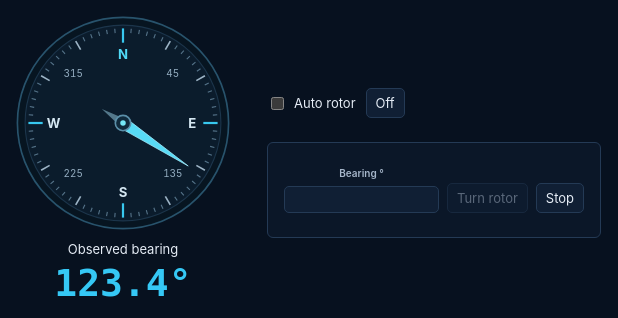
reports an automatic-controller failure without claiming a changed bearing or issuing a direct move
Click the checkbox labelled "Auto rotor": (278, 103) [271, 96, 284, 110]
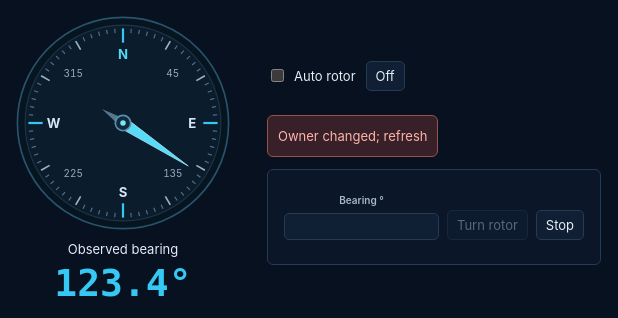
Check: the text "123.4°" is shown, box [54, 264, 192, 302]
Check: the message "Owner changed; refresh" is shown, box [267, 115, 438, 157]
